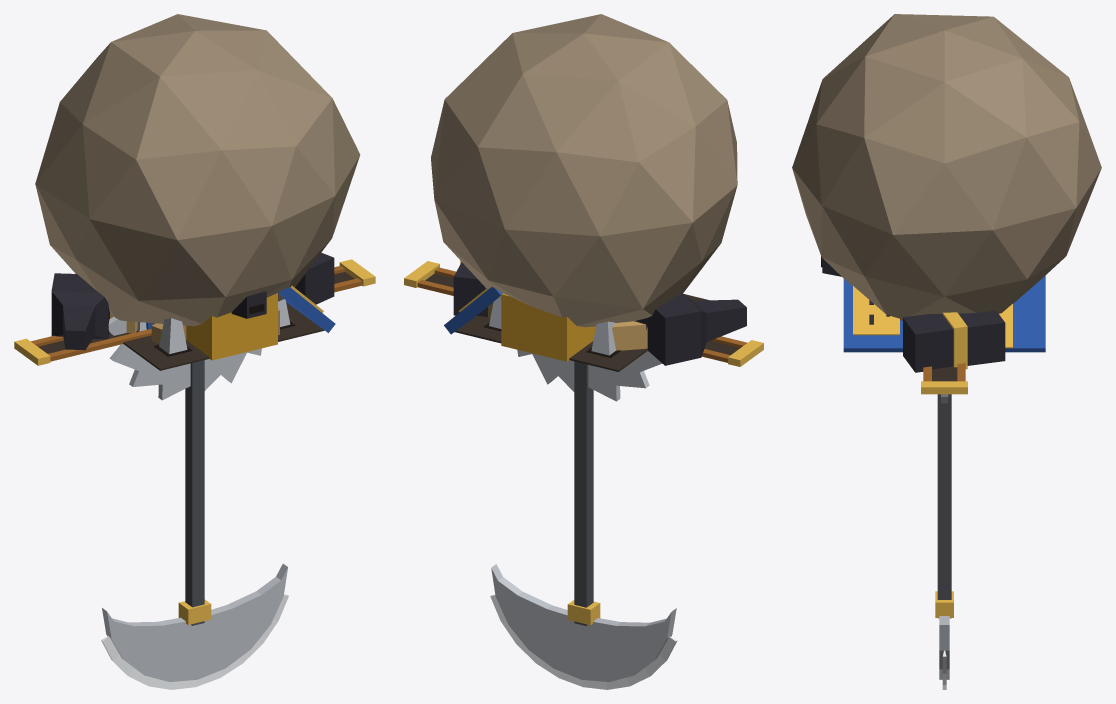
File: w4_tombtraps.fbx
3 renders of one model, left to right at view 1: azimuth 30°, elevation 25°; view 2: azimuth 150°, elevation 25°; view 3: azimuth 270°, elevation 25°, orthographic.
Visible parts, largest first — view 1: TombBoulder.Rock, SwingAxe.Blade, BrokenStatue.Statue, SwingAxe.Pole, ToppledSarcophagus.Case, Buzzsaw.Blade, SpikeTile.Frame, SwingAxe.Edge, BuzzsawTrack.Rails, SpikeTile.Spikes, BuzzsawTrack.Caps, ToppledSarcophagus.Lid (+2 smaller); view 2: TombBoulder.Rock, SwingAxe.Blade, BrokenStatue.Statue, SwingAxe.Pole, ToppledSarcophagus.Case, Buzzsaw.Blade, SwingAxe.Edge, SpikeTile.Frame, BuzzsawTrack.Caps, Rubble.Stone, SpikeTile.Spikes, BuzzsawTrack.Rails (+3 smaller); view 3: TombBoulder.Rock, BrokenStatue.Statue, ToppledSarcophagus.Lid, SwingAxe.Pole, ToppledSarcophagus.Bands, BrokenStatue.Gold, BuzzsawTrack.Caps, SwingAxe.Blade.
Boxes of the visible parts, x1,y1,x2,y2 form: TombBoulder.Rock: (35, 14, 360, 326); SwingAxe.Blade: (102, 563, 287, 681); BrokenStatue.Statue: (51, 252, 334, 350); SwingAxe.Pole: (185, 360, 204, 625); ToppledSarcophagus.Case: (186, 293, 277, 360); Buzzsaw.Blade: (108, 316, 261, 400); SpikeTile.Frame: (115, 302, 324, 370); SwingAxe.Edge: (101, 594, 288, 689); BuzzsawTrack.Rails: (31, 265, 361, 361); SpikeTile.Spikes: (137, 299, 290, 353); BuzzsawTrack.Caps: (14, 259, 375, 365); ToppledSarcophagus.Lid: (278, 287, 335, 332); TombBoulder.Rock: (431, 14, 737, 327); SwingAxe.Blade: (491, 564, 676, 681); BrokenStatue.Statue: (453, 262, 746, 365); SwingAxe.Pole: (574, 361, 593, 625); ToppledSarcophagus.Case: (501, 293, 595, 361); Buzzsaw.Blade: (517, 350, 661, 401); SwingAxe.Edge: (490, 594, 677, 689); SpikeTile.Frame: (455, 293, 708, 371); BuzzsawTrack.Caps: (404, 261, 763, 366); Rubble.Stone: (488, 303, 647, 350); SpikeTile.Spikes: (489, 298, 615, 355); BuzzsawTrack.Rails: (417, 267, 747, 362); TombBoulder.Rock: (792, 14, 1101, 320); BrokenStatue.Statue: (903, 310, 1005, 372); ToppledSarcophagus.Lid: (843, 276, 1045, 352); SwingAxe.Pole: (937, 394, 951, 618); ToppledSarcophagus.Bands: (853, 286, 1012, 348); BrokenStatue.Gold: (942, 312, 967, 369); BuzzsawTrack.Caps: (921, 381, 967, 394); SwingAxe.Blade: (939, 616, 949, 679).
Size of the model in its own units: 8.2 by 15.22 by 6.59.
